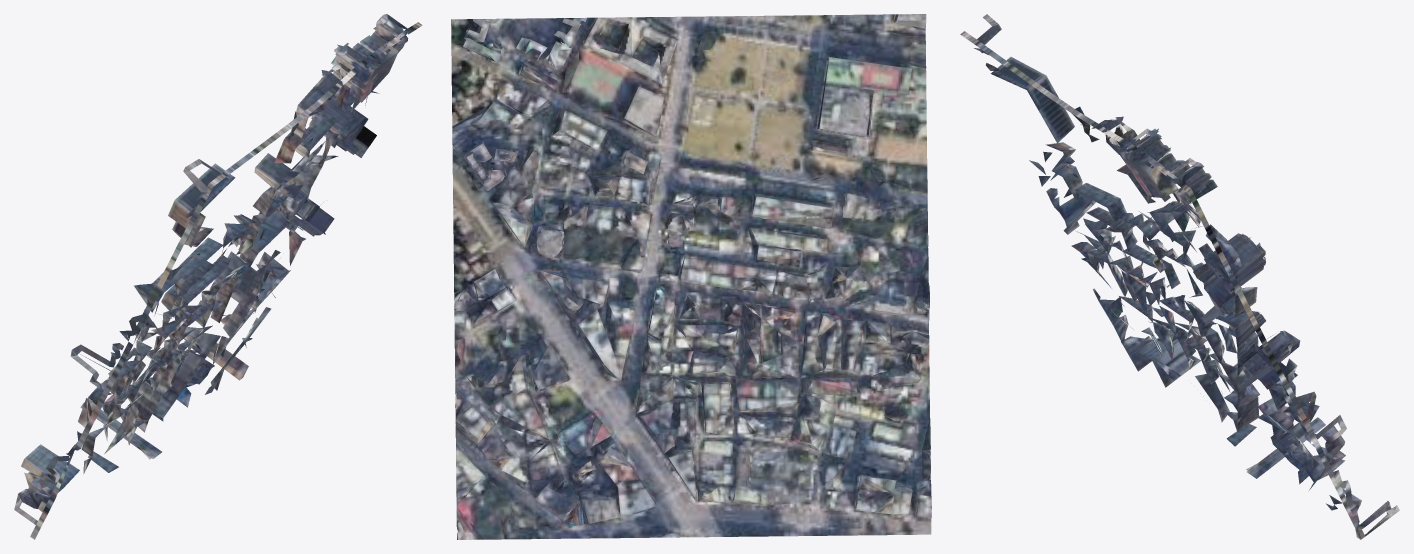
3 renders of one model, left to right at view 1: azimuth 30°, elevation 25°; view 2: azimuth 150°, elevation 25°; view 3: azimuth 270°, elevation 25°, orthographic. The views are drawn at different scales.
Bounding box in the file's own units: 624 × 578 × 559.
1 material, 1 textured.
